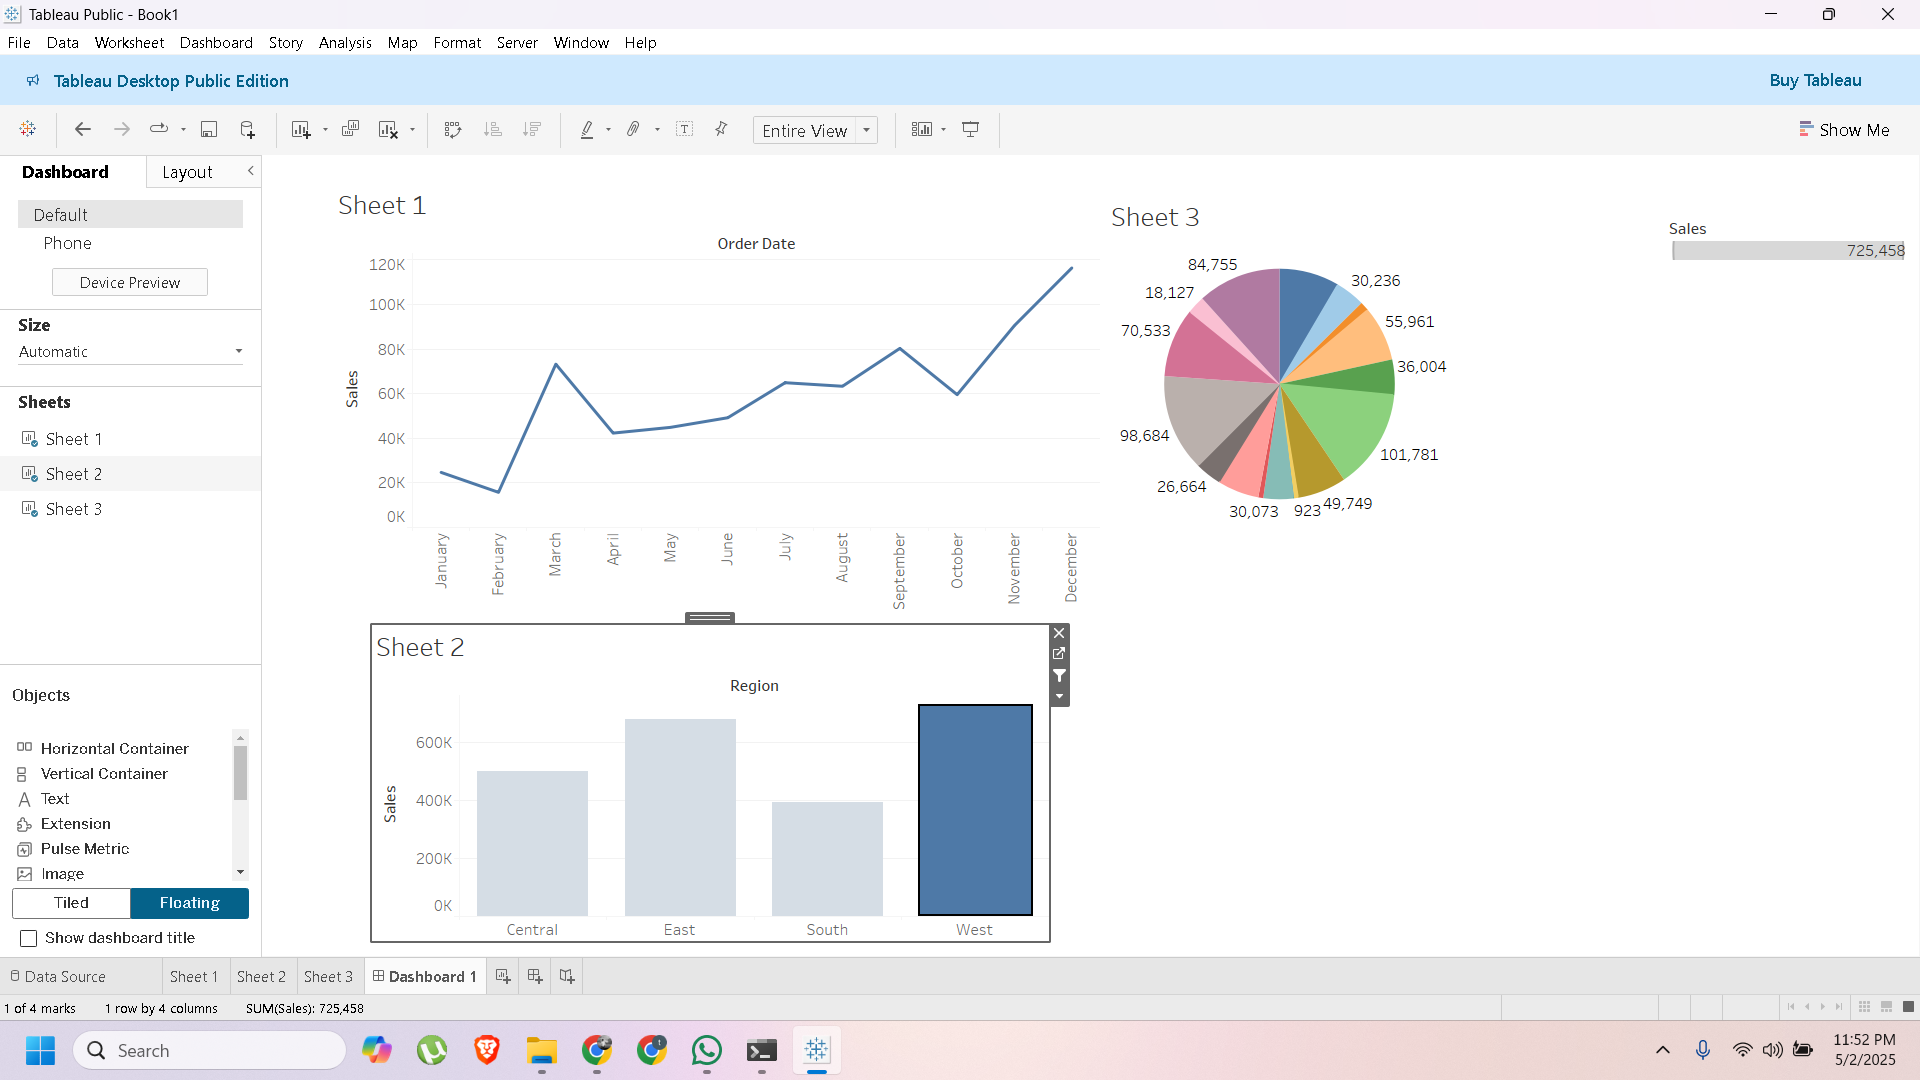

The dashboard page shown, as its layout file describes it:
{"tool":"tableau","page":{"name":"Dashboard 1","canvas":[1000,1000],"units":"permille","ordinal":0},"visuals":[{"type":"worksheet","title":"Sheet 1","mark":"Automatic","rows":["Sales"],"cols":["Order Date"],"box":[43.5,35,462.3,554.3]},{"type":"worksheet","title":"Sheet 3","mark":"Pie","box":[510,49.9,320.5,470.7]},{"type":"legend","title":"Sheet 3","param":"[federated.0s47rs51ssgf8y13znfwb18qs4qz].[sum:Sales:qk]","box":[849.1,78.7,145.4,53.7]},{"type":"worksheet","title":"Sheet 2","mark":"Automatic","rows":["Sales"],"cols":["Region"],"box":[66.4,586.8,408.6,394.5]}]}

Visuals, with their boxes on the dashboard's canvas, which has no fixed pixel size, in thousandths of its width and height (x1, y1, x2, y2). These are canvas units, not pixel positions in the 1920x1080 screenshot, which may show the page scaled, cropped or inside an application window:
"Sheet 1" worksheet: box=[44, 35, 506, 589]
"Sheet 3" worksheet (Pie marks): box=[510, 50, 830, 521]
"Sheet 3" legend: box=[849, 79, 994, 132]
"Sheet 2" worksheet: box=[66, 587, 475, 981]
